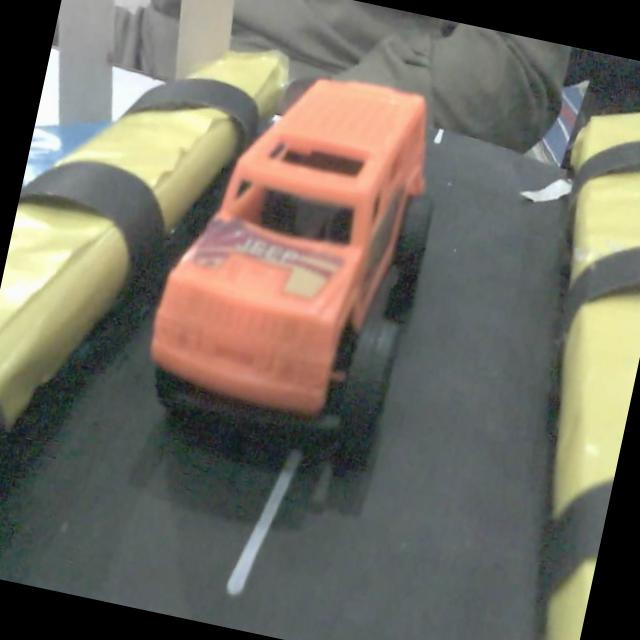OneCar: (147, 75, 432, 472)
